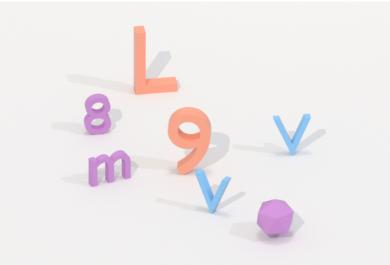0-TronCanh: (249, 195, 296, 241)
8: (79, 89, 114, 139)
9: (163, 102, 215, 175)
L: (127, 20, 182, 99)
V: (269, 108, 316, 158), (193, 167, 234, 218)
m: (83, 146, 133, 191)
